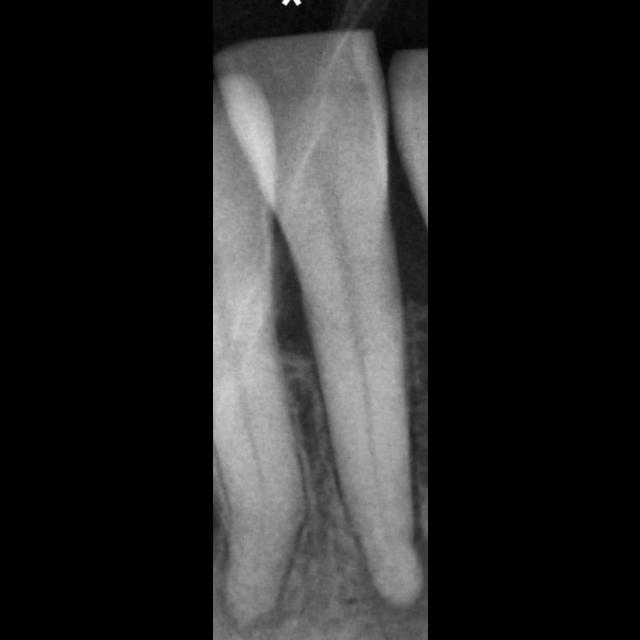tooth: (213, 29, 426, 613)
